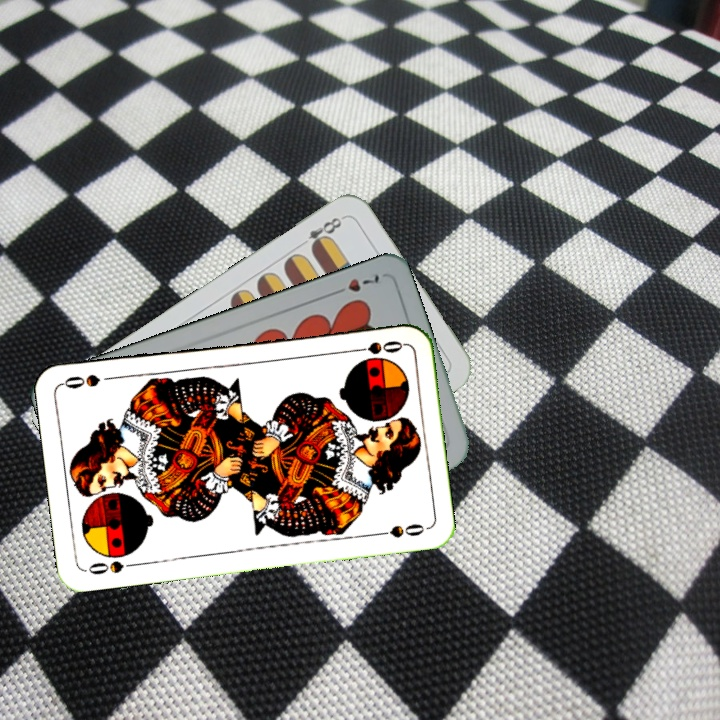E8: (303, 212, 347, 253)
H7: (327, 269, 382, 299)
SO: (82, 550, 141, 578), (347, 336, 406, 357)
